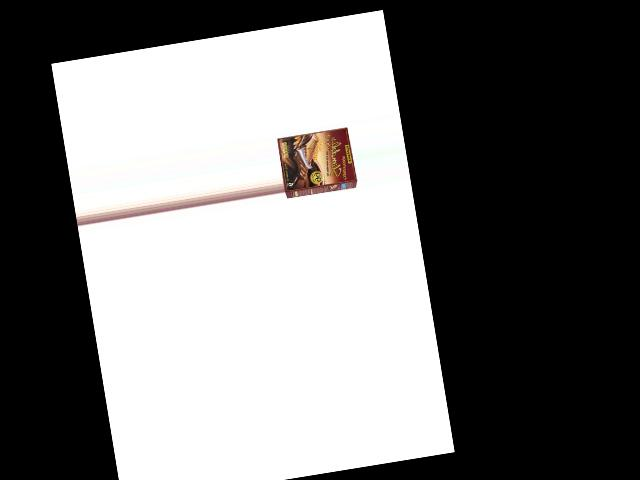chocolate: (274, 120, 359, 202)
